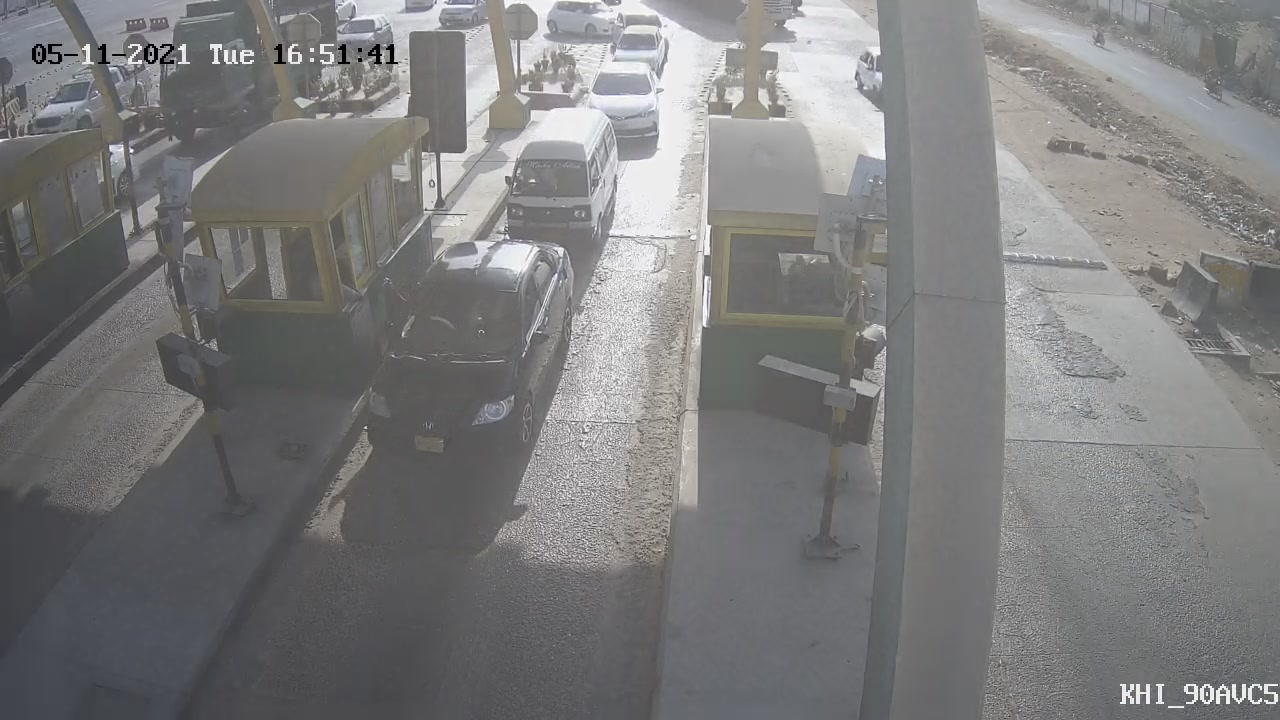F1: (331, 226, 596, 482), (492, 98, 637, 272), (572, 57, 677, 153)
